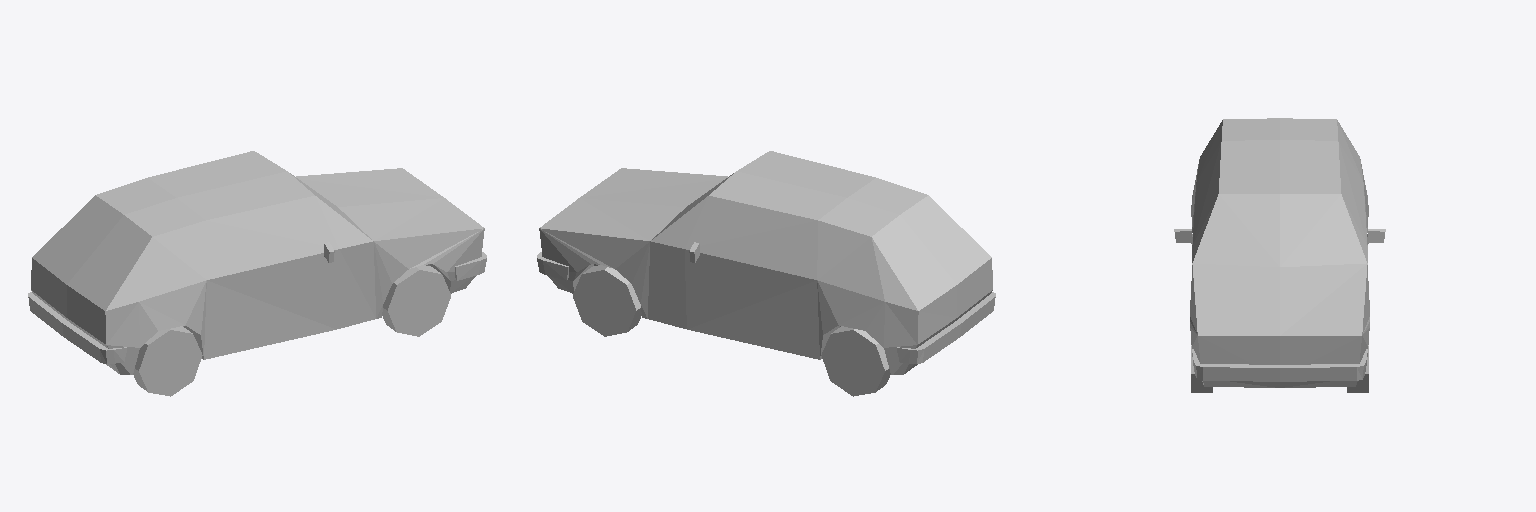
The model's file is Car3_o1.obj.
3 renders of one model, left to right at view 1: azimuth 30°, elevation 25°; view 2: azimuth 150°, elevation 25°; view 3: azimuth 270°, elevation 25°, orthographic.
Visible parts, largest first — view 1: Car3; view 2: Car3; view 3: Car3.
Boxes of the visible parts, box(x1,y1,x2,y2) form: Car3: box(28, 151, 486, 396); Car3: box(537, 151, 995, 396); Car3: box(1174, 118, 1385, 392).
Bounding box in the file's own units: 3.37 × 1.29 × 1.59.